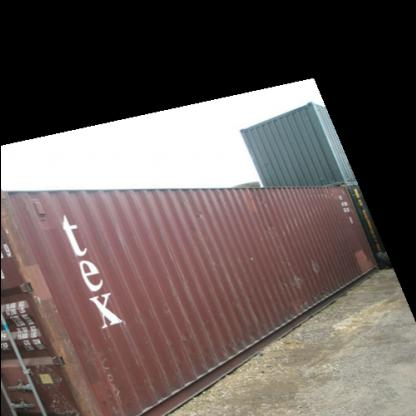Damage: (22, 282, 100, 404), (169, 320, 199, 362), (256, 210, 280, 246), (280, 265, 300, 308), (184, 202, 204, 234), (304, 250, 322, 278)
